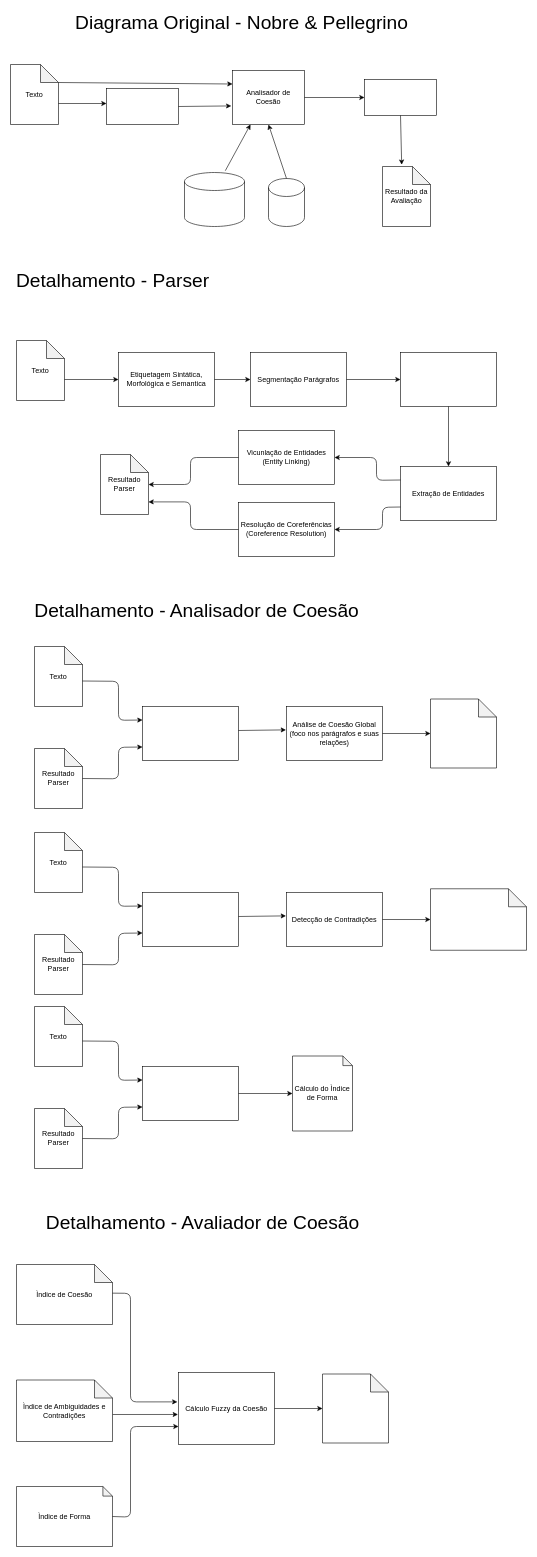
The diagram is 537 pixels wide and 1557 high, and some of its shapes have lost their labels. The shapes that lost their labels are listed below. From the top down, each one's box as (x1, y1, x2, y2) in pixels, then its label:
(106, 88, 178, 124): Parser
(364, 79, 436, 116): Avaliador de Coesão
(184, 172, 244, 226): Sinônimos
(268, 178, 304, 226): Regras
(400, 352, 496, 406): Segmentação Sentenças
(142, 706, 238, 760): Análise de Coesão Local (foco nas sentenças e suas relações)
(430, 698, 496, 768): Cálculo do Ìndice de Coesão
(142, 892, 238, 946): Detecção de Ambiguidades
(430, 888, 526, 950): Cálculo do Ìndice de Ambiguidades e Contradições
(142, 1066, 238, 1120): Detecção de Problemas de Forma
(322, 1373, 388, 1443): Valor da Coesão Fuzzy
